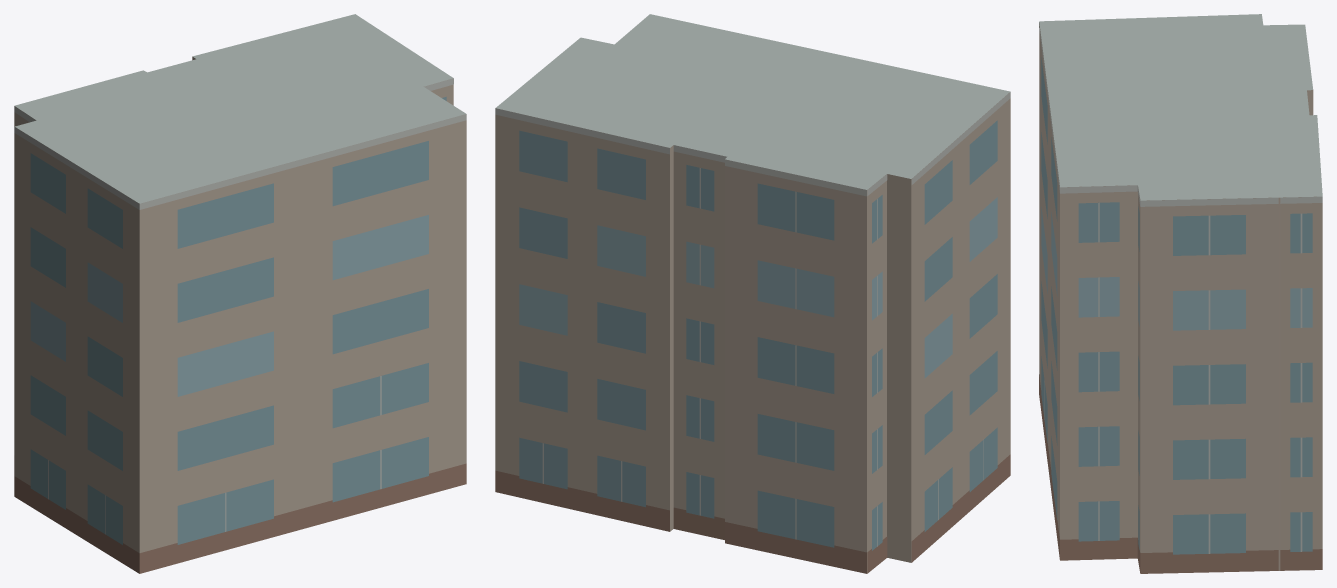
File: survey-upis-32542374.glb
3 renders of one model, left to right at view 1: azimuth 30°, elevation 25°; view 2: azimuth 150°, elevation 25°; view 3: azimuth 270°, elevation 25°, orthographic. The views are drawn at different scales.
Parts seen in each view (by area): view 1: survey-upis-32542374.tmp; view 2: survey-upis-32542374.tmp; view 3: survey-upis-32542374.tmp.
Boxes of the visible parts, bbox=[...] form: survey-upis-32542374.tmp: bbox=[14, 14, 466, 573]; survey-upis-32542374.tmp: bbox=[495, 14, 1010, 573]; survey-upis-32542374.tmp: bbox=[1039, 14, 1322, 573].
Bounding box in the file's own units: 15.45 × 14.4 × 9.92.
